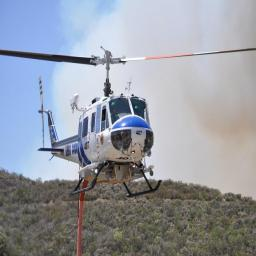helicopter: (1, 48, 253, 198)
